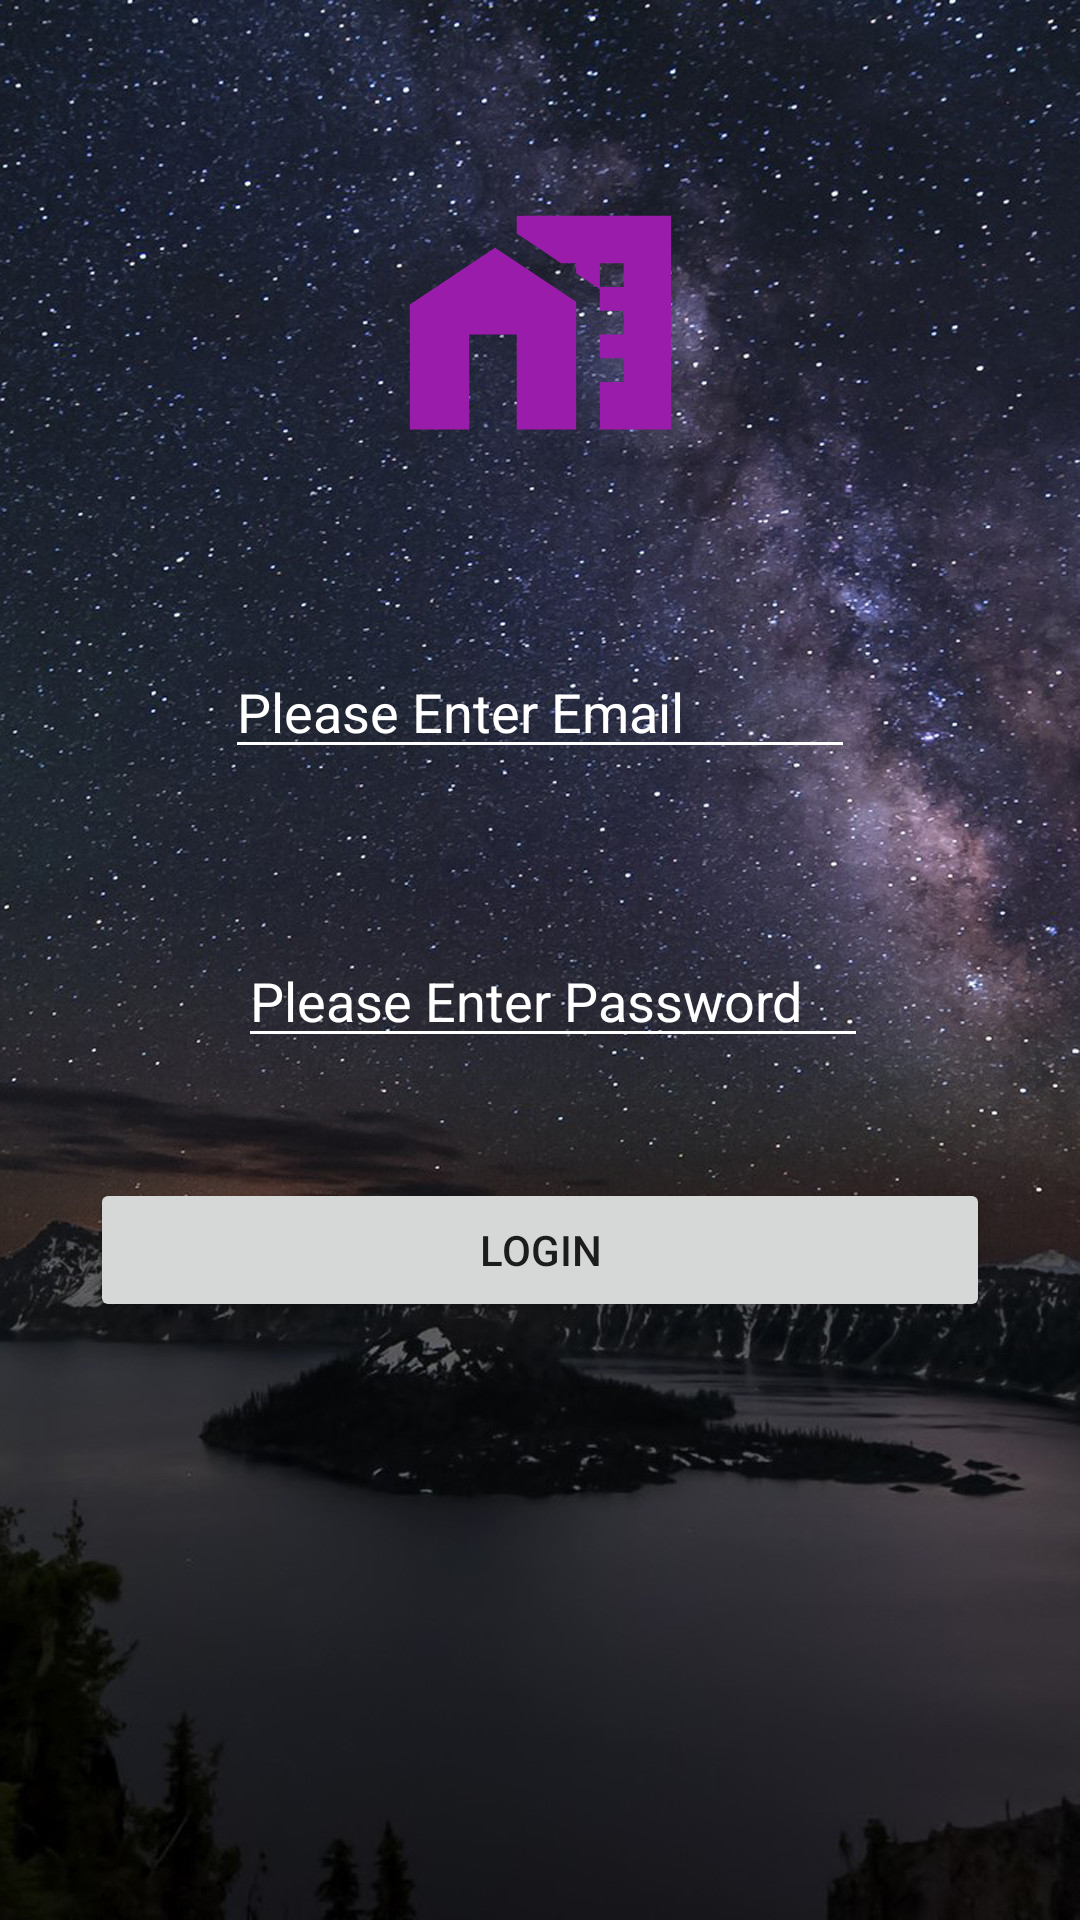

Named icons in this screenshot (1080px×1920px) and their centers, [x,y]:
home work: [540,322]
